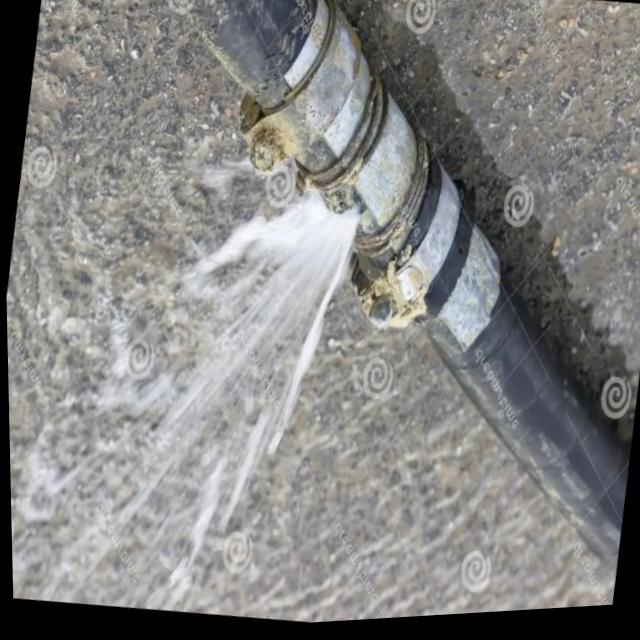leak: (104, 169, 356, 611)
